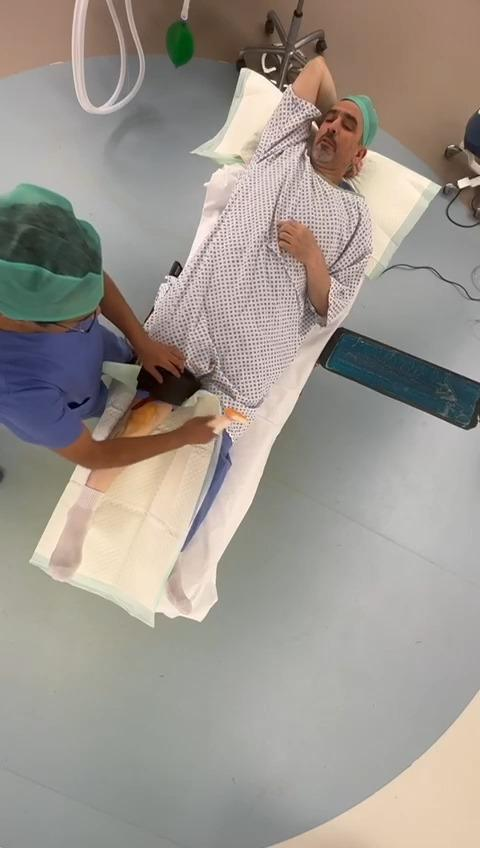patient: (50, 56, 378, 580)
prepstick: (207, 407, 248, 434)
tourniquet: (138, 368, 200, 405)
